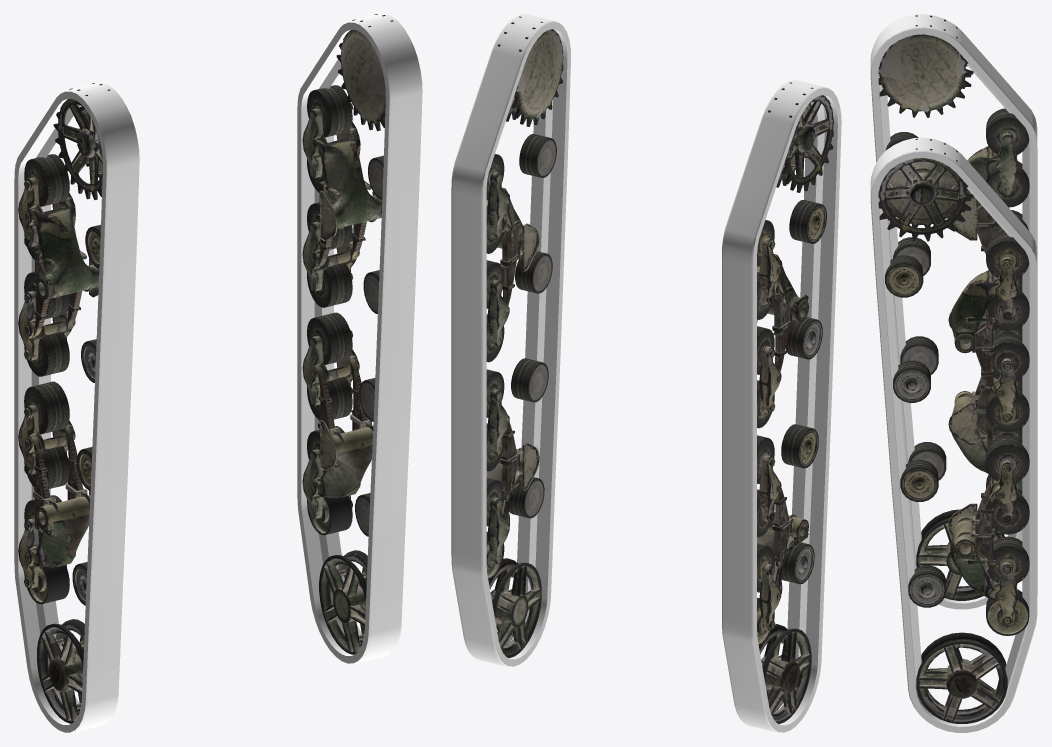
File: Chassis.glb
The picture shows the model from 3 angles, left to right: view 1: azimuth 30°, elevation 25°; view 2: azimuth 150°, elevation 25°; view 3: azimuth 270°, elevation 25°; orthographic projection. The views are drawn at different scales.
Parts seen in each view (by area): view 1: set_1_group_0, set_0_group_0, set_3_group_0, set_2_group_0; view 2: set_0_group_0, set_1_group_0, set_3_group_0, set_2_group_0; view 3: set_3_group_0, set_2_group_0, set_1_group_0, set_0_group_0.
Boxes of the visible parts, <box> form: set_1_group_0: <box>297,14,422,663</box>; set_0_group_0: <box>14,83,139,732</box>; set_3_group_0: <box>302,14,393,654</box>; set_2_group_0: <box>18,83,110,723</box>; set_0_group_0: <box>722,80,841,732</box>; set_1_group_0: <box>451,14,570,666</box>; set_3_group_0: <box>486,16,563,657</box>; set_2_group_0: <box>757,82,833,723</box>; set_3_group_0: <box>878,138,1029,723</box>; set_2_group_0: <box>878,15,1029,600</box>; set_1_group_0: <box>870,137,1037,732</box>; set_0_group_0: <box>870,14,1037,609</box>.
Bounding box in the file's own units: 2.45 × 4.48 × 1.16.
Materials: 4 (2 with a texture image).
